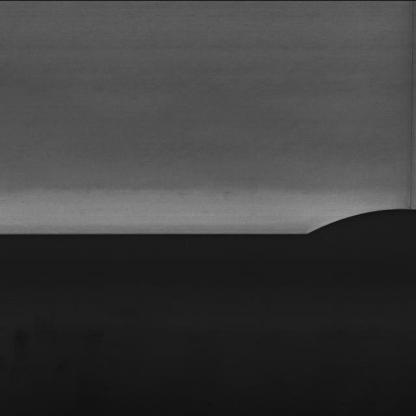crescent_gap: (282, 198, 416, 240)
